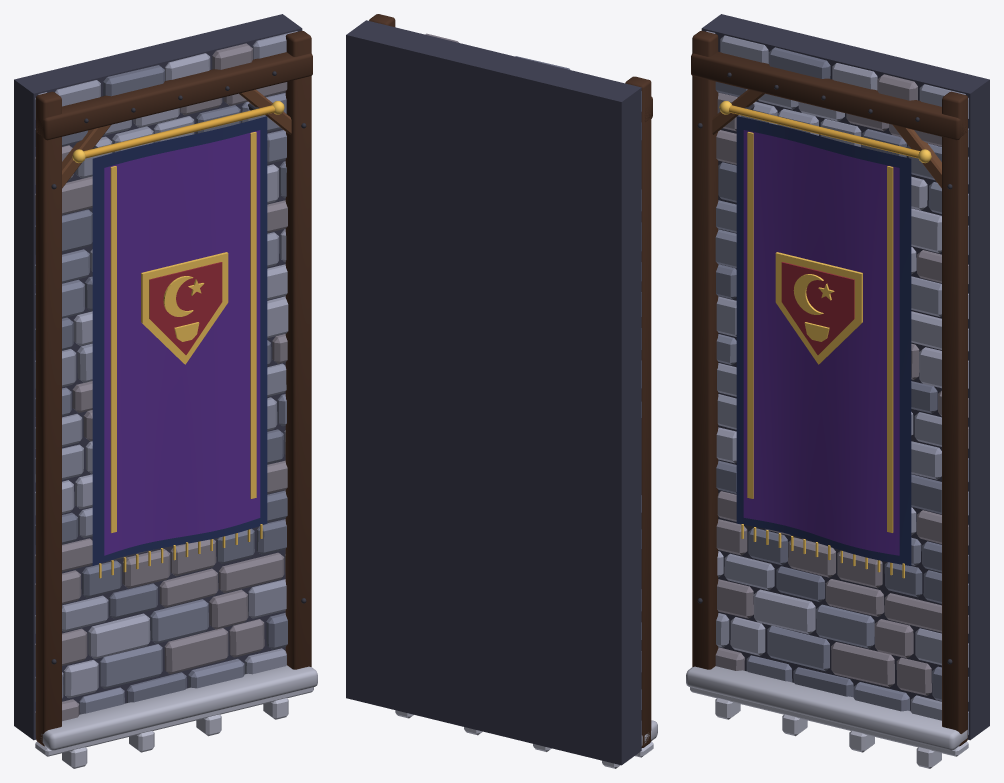
File: magic_wall_tapestry.glb
3 views of the same model, side by side, from view 1: azimuth 30°, elevation 25°; view 2: azimuth 150°, elevation 25°; view 3: azimuth 330°, elevation 25° (orthographic). The views are drawn at different scales.
Visible parts, largest first — view 1: magic_wall_tapestry; view 2: magic_wall_tapestry; view 3: magic_wall_tapestry.
Boxes of the visible parts, left/top/right/bottom form: magic_wall_tapestry: left=14, top=14, right=317, bottom=768; magic_wall_tapestry: left=346, top=14, right=657, bottom=768; magic_wall_tapestry: left=686, top=14, right=989, bottom=768.
Size of the model in its own units: 2 by 4.79 by 0.503.
